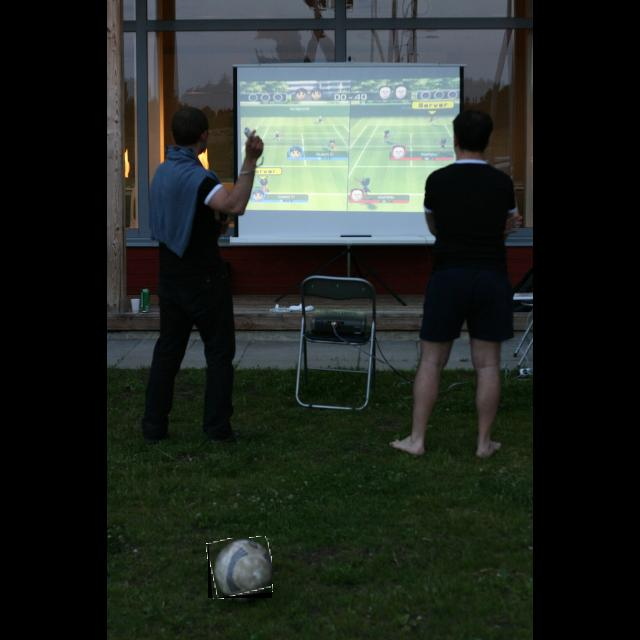Football: (208, 538, 272, 598)
